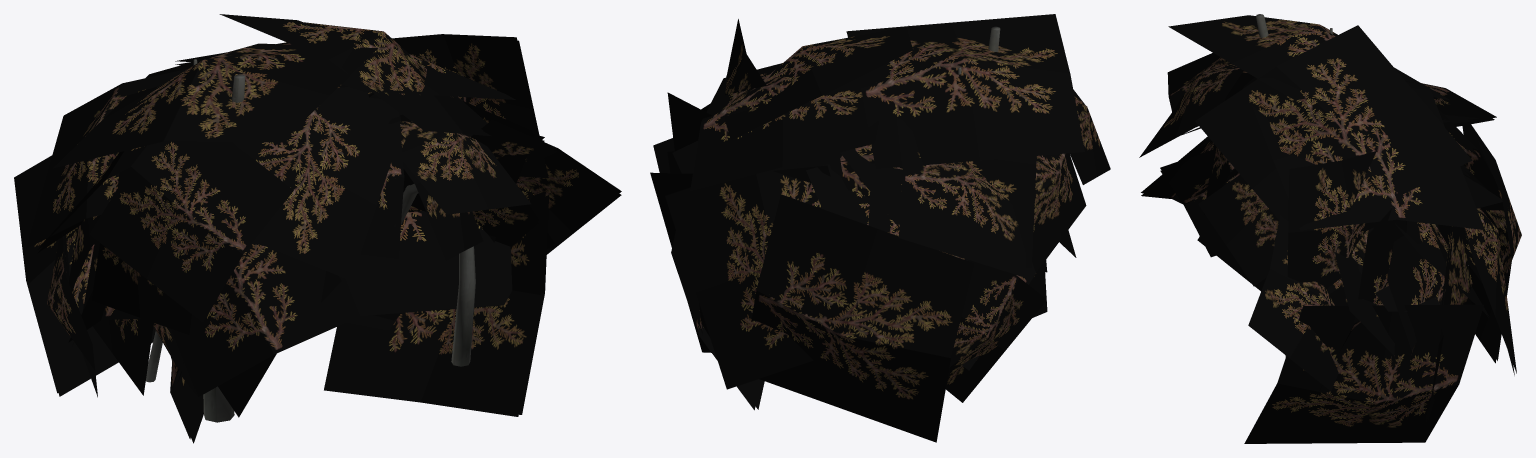
The model's file is Gapahuk01.fbx.
3 views of the same model, side by side, from view 1: azimuth 30°, elevation 25°; view 2: azimuth 150°, elevation 25°; view 3: azimuth 270°, elevation 25° (orthographic). The views are drawn at different scales.
Visible parts, largest first — view 1: Gapahuk01; view 2: Gapahuk01; view 3: Gapahuk01.
Part boxes in pixels (left/top/right/bottom): Gapahuk01: left=14, top=14, right=621, bottom=443; Gapahuk01: left=650, top=14, right=1110, bottom=442; Gapahuk01: left=1139, top=14, right=1521, bottom=443.
Bounding box in the file's own units: 21.9 × 17.8 × 17.24.
2 materials, 2 textured.
